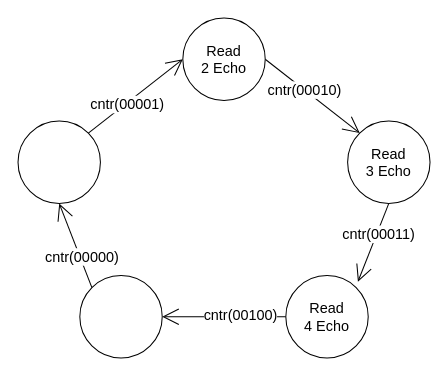
The diagram is 448 pixels wide and 376 high, and some of its shapes have lost their labels. The shapes that lost their labels are listed below. From the top down, each one's centre as x and y in pixels, then its label:
At point 58,161: "Read 1 Echo".
At point 120,316: "Write over last sample".
